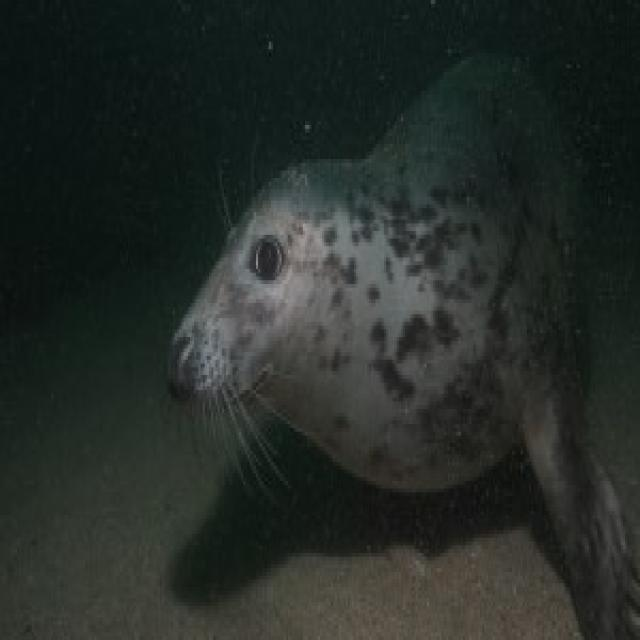Seal: (156, 62, 636, 640)
